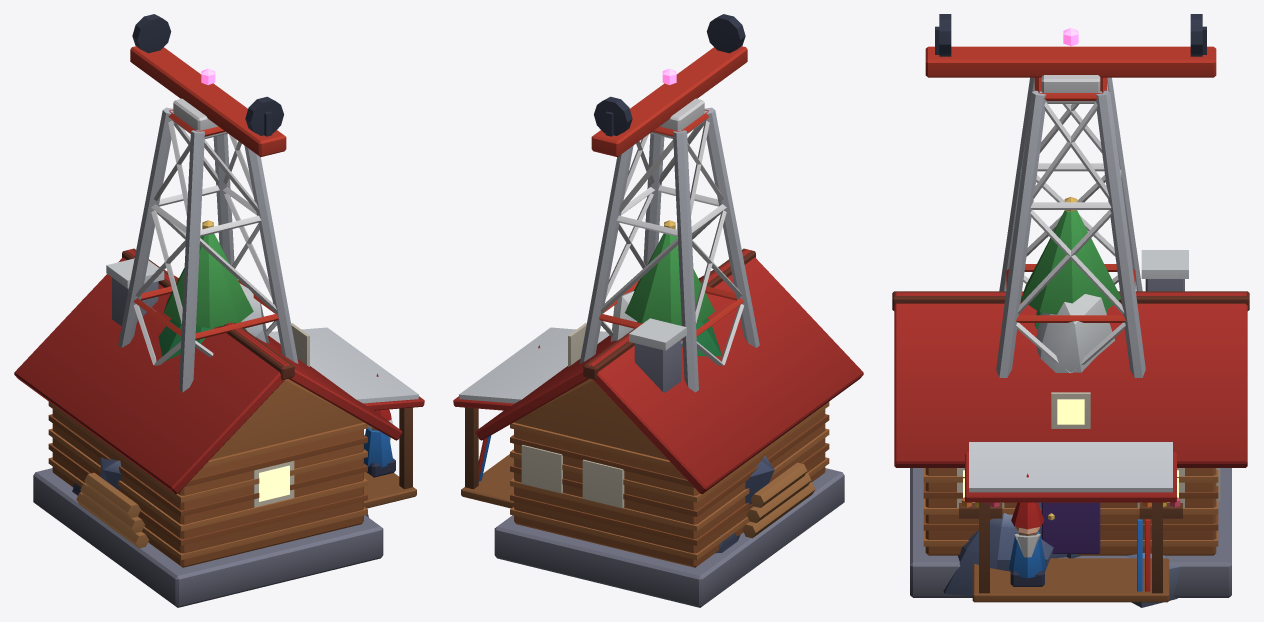
Rendered from scenery-alpine.glb.
3 views of the same model, side by side, from view 1: azimuth 30°, elevation 25°; view 2: azimuth 150°, elevation 25°; view 3: azimuth 270°, elevation 25° (orthographic). The views are drawn at different scales.
Visible parts, largest first — view 1: prop-chalet, prop-cablecar_pylon, prop-pine_a, prop-rock_b, prop-rock_a; view 2: prop-chalet, prop-cablecar_pylon, prop-pine_a, prop-rock_a, prop-rock_b; view 3: prop-chalet, prop-cablecar_pylon, prop-pine_a, prop-rock_b, prop-rock_a.
Part boxes in pixels (x1=…): prop-chalet: x1=14, y1=248, x2=424, y2=607; prop-cablecar_pylon: x1=118, y1=14, x2=298, y2=392; prop-pine_a: x1=158, y1=220, x2=253, y2=360; prop-rock_b: x1=219, y1=283, x2=269, y2=343; prop-rock_a: x1=72, y1=457, x2=368, y2=517; prop-chalet: x1=453, y1=248, x2=863, y2=607; prop-cablecar_pylon: x1=579, y1=14, x2=759, y2=392; prop-pine_a: x1=625, y1=220, x2=722, y2=356; prop-rock_a: x1=715, y1=455, x2=774, y2=553; prop-rock_b: x1=610, y1=291, x2=637, y2=341; prop-chalet: x1=892, y1=250, x2=1249, y2=602; prop-cablecar_pylon: x1=925, y1=14, x2=1216, y2=377; prop-pine_a: x1=1021, y1=197, x2=1120, y2=329; prop-rock_b: x1=1036, y1=294, x2=1180, y2=607; prop-rock_a: x1=943, y1=513, x2=1080, y2=596.
Size of the model in its own units: 9.32 by 15.39 by 9.1.
